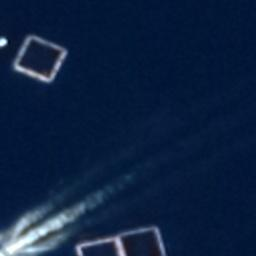square_solid: (8, 31, 71, 87), (112, 221, 170, 256), (71, 232, 128, 256)
